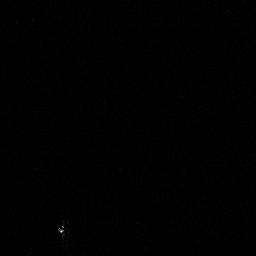ship: (57, 218, 70, 245)
